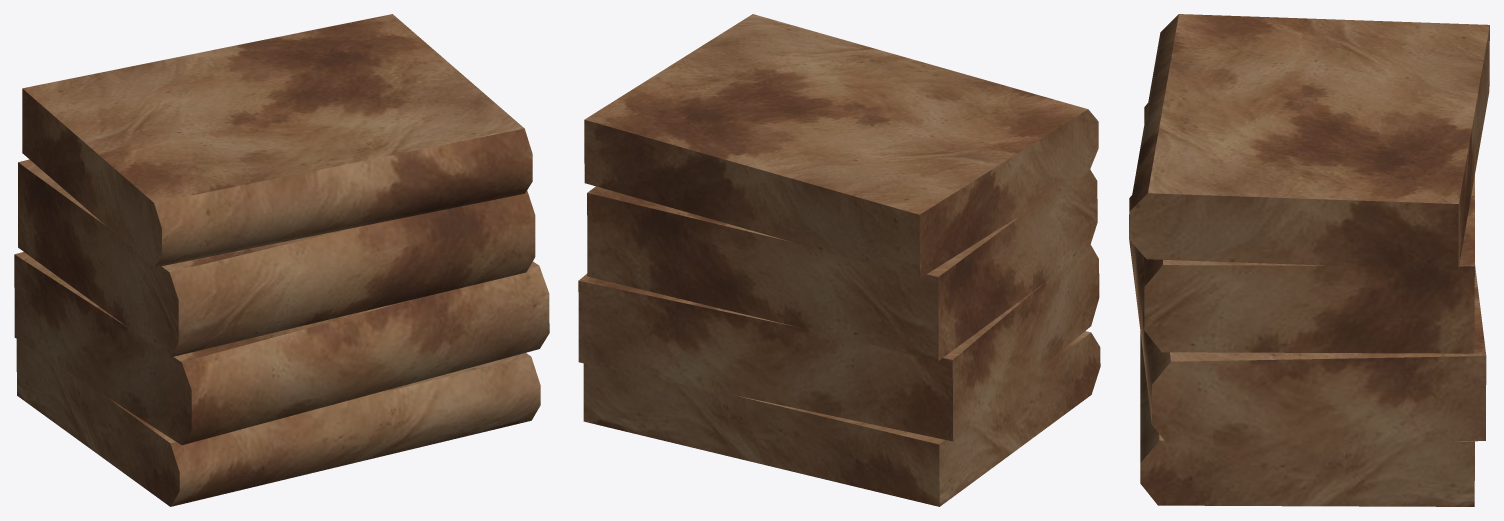
Rendered from tr_books_stack_1.glb.
3 renders of one model, left to right at view 1: azimuth 30°, elevation 25°; view 2: azimuth 150°, elevation 25°; view 3: azimuth 270°, elevation 25°, orthographic. The views are drawn at different scales.
Parts seen in each view (by area): view 1: model; view 2: model; view 3: model.
Part boxes in pixels (x1,y1,x2,y2): model: (14,14,549,506); model: (578,14,1100,506); model: (1129,14,1489,506).
Size of the model in its own units: 0.2849 by 0.2137 by 0.2263.
Materials: 1 (1 with a texture image).
